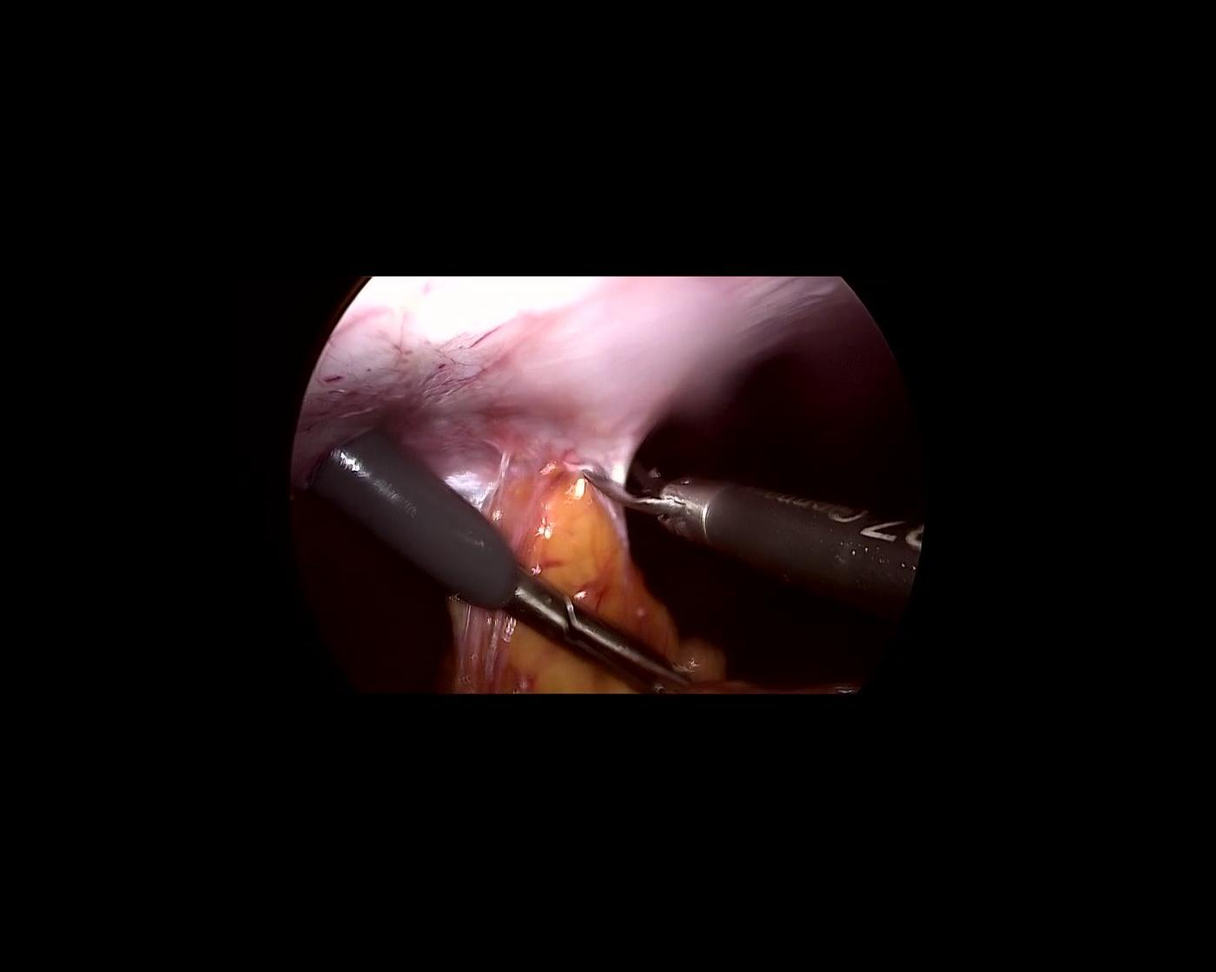Forceps: (499, 570, 694, 720)
